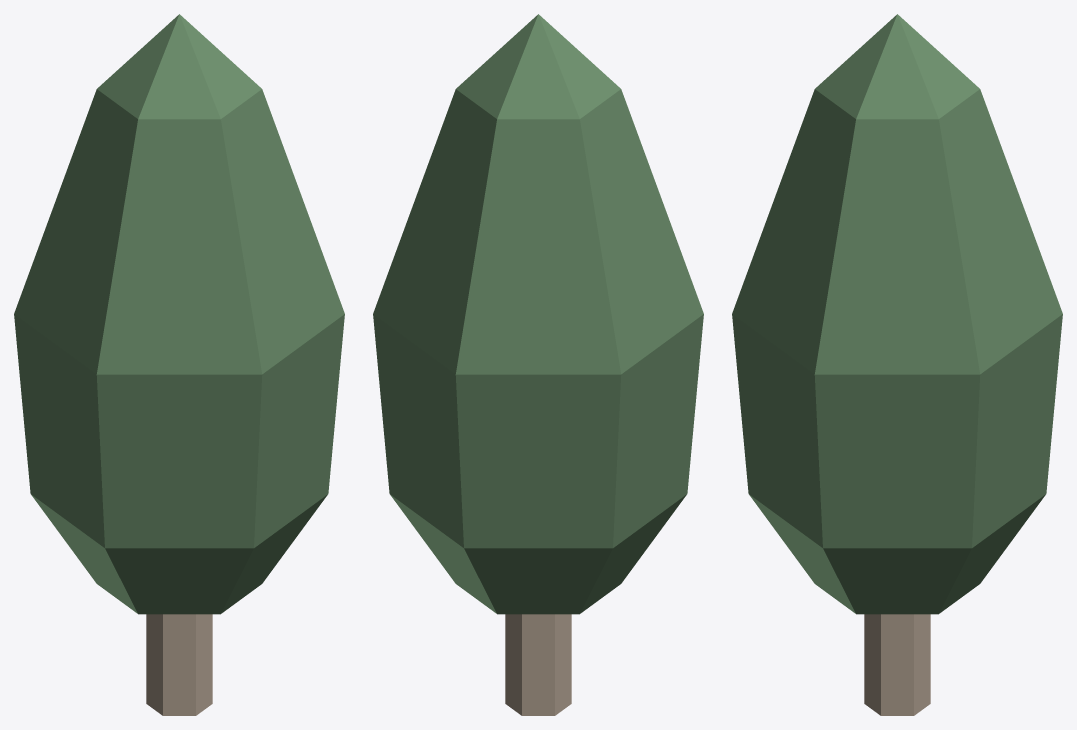
File: Hilly_Prop_Tree_Cedar_1.glb
3 views of the same model, side by side, from view 1: azimuth 30°, elevation 25°; view 2: azimuth 150°, elevation 25°; view 3: azimuth 270°, elevation 25° (orthographic).
Parts seen in each view (by area): view 1: Hilly_Prop_Tree_Cedar_1; view 2: Hilly_Prop_Tree_Cedar_1; view 3: Hilly_Prop_Tree_Cedar_1.
Boxes of the visible parts, <box> form: Hilly_Prop_Tree_Cedar_1: <box>14,14,344,715</box>; Hilly_Prop_Tree_Cedar_1: <box>373,14,703,715</box>; Hilly_Prop_Tree_Cedar_1: <box>732,14,1062,715</box>.
Bounding box in the file's own units: 0.866 × 2.3 × 1.
